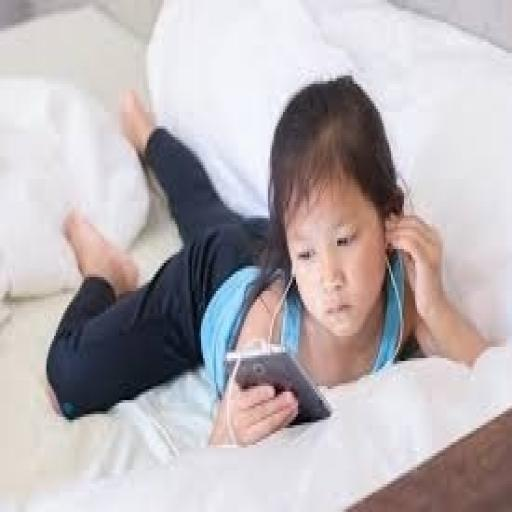listening_to_music: (43, 73, 493, 450)
